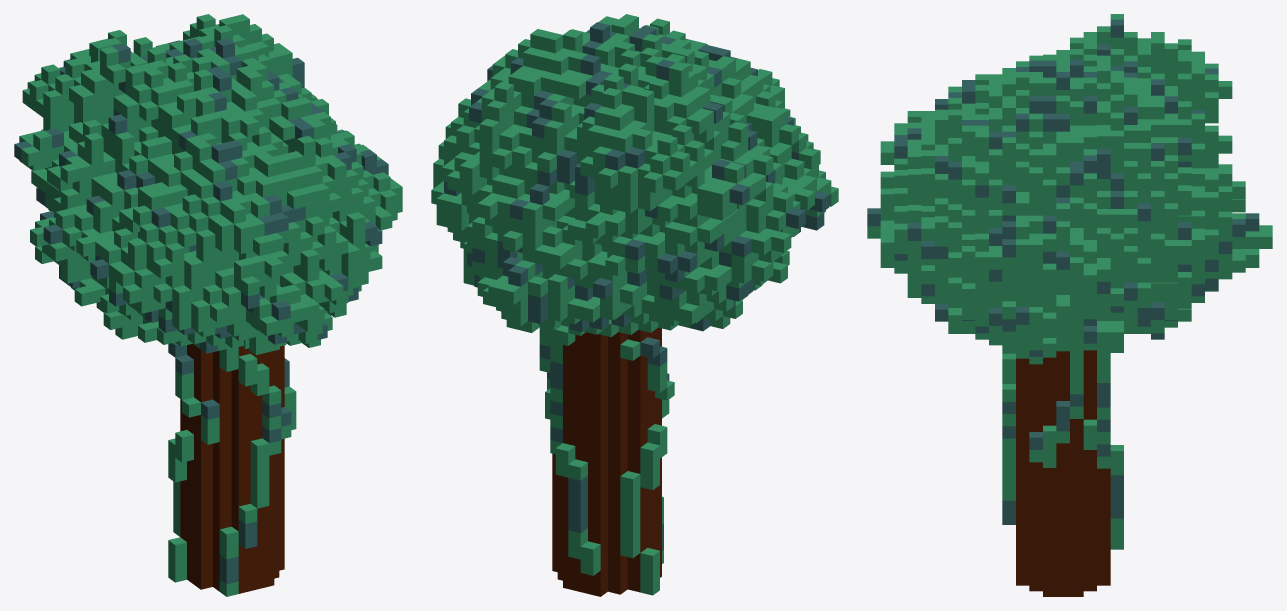
File: Arvore Azul.obj
3 renders of one model, left to right at view 1: azimuth 30°, elevation 25°; view 2: azimuth 150°, elevation 25°; view 3: azimuth 270°, elevation 25°, orthographic. The views are drawn at different scales.
Bounding box in the file's own units: 2.7 × 4.2 × 3.
1 material, 1 textured.
